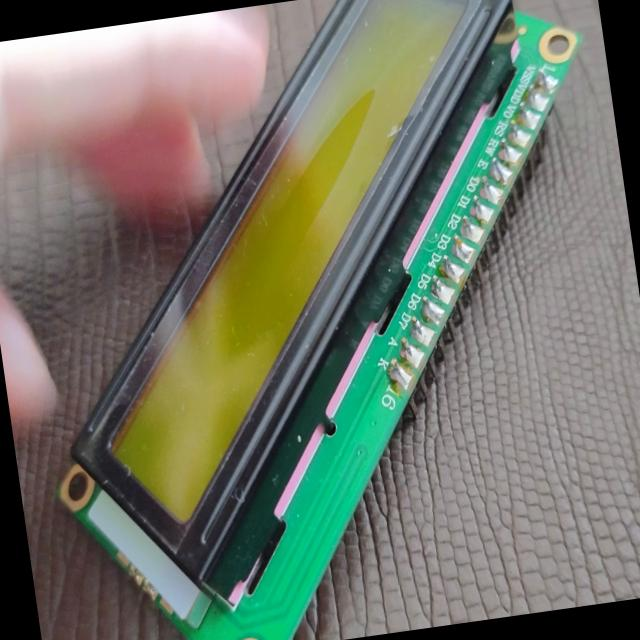lcd: (12, 0, 640, 640)
